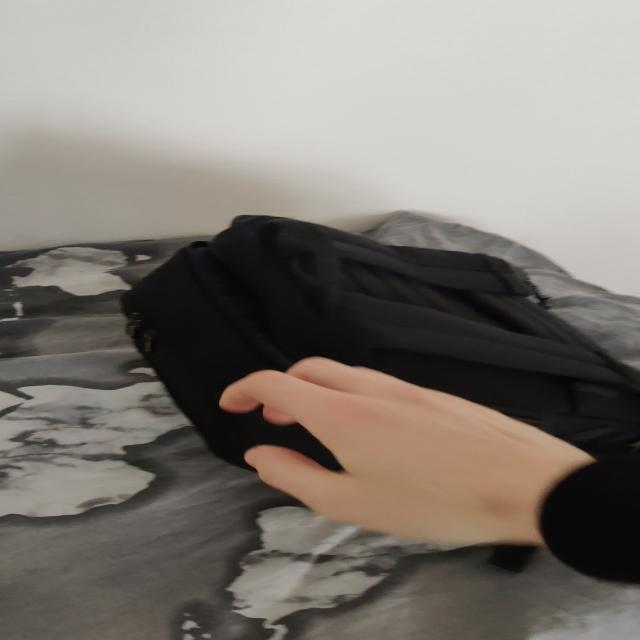backpack: (103, 206, 637, 451)
